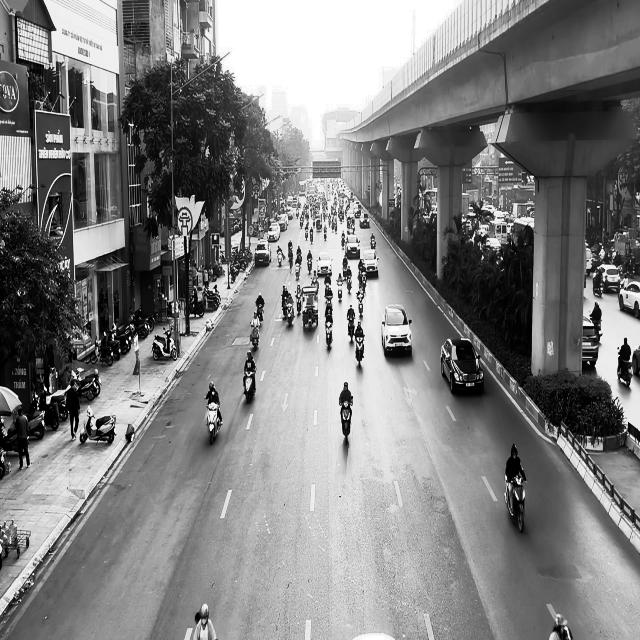car: (440, 336, 484, 394), (381, 304, 412, 356), (618, 280, 640, 318), (362, 249, 379, 275), (344, 234, 360, 259), (316, 251, 332, 275)
motorbike: (79, 404, 117, 444), (504, 472, 526, 533), (204, 398, 222, 445), (152, 327, 177, 360), (339, 396, 353, 444), (617, 353, 633, 387), (243, 368, 256, 403), (354, 334, 364, 364), (250, 319, 260, 349), (284, 298, 294, 327), (324, 318, 332, 349), (347, 314, 355, 342), (295, 291, 301, 315)
